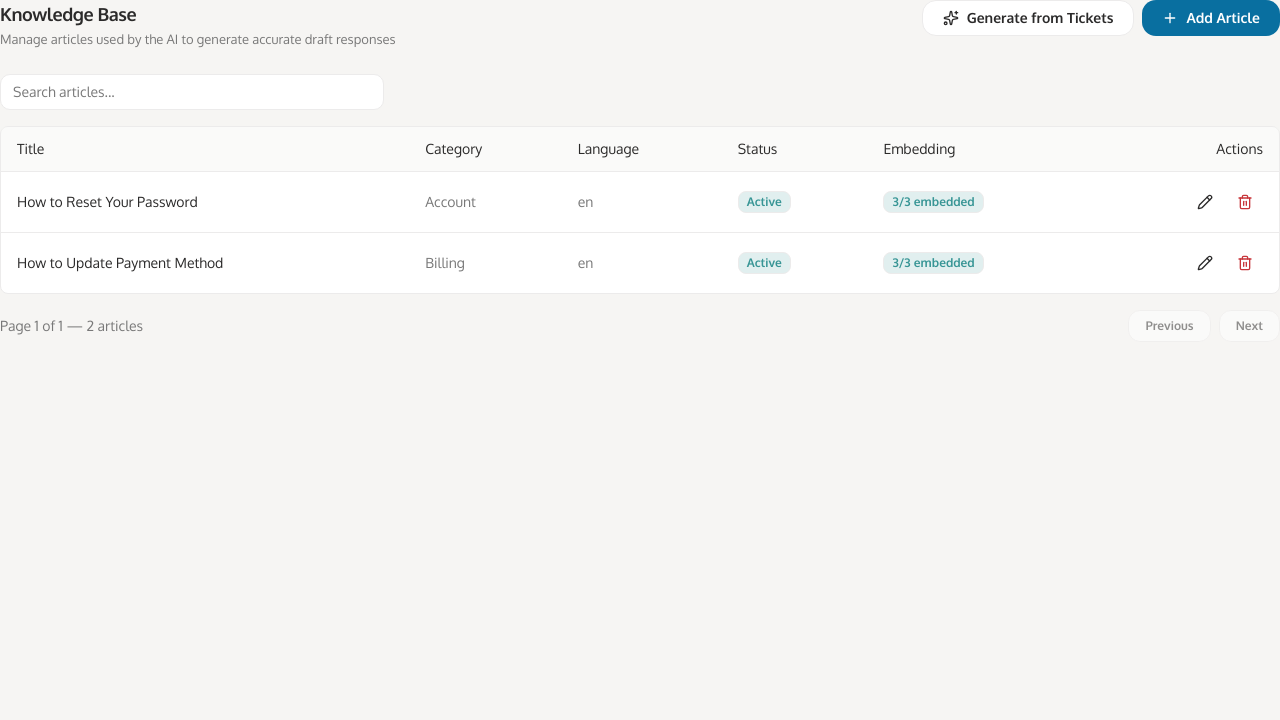
Test: Knowledge Base › opens create modal when Add Article is clicked
Click the button "Add Article".
click(1211, 18)  # box [1142,0,1279,36]
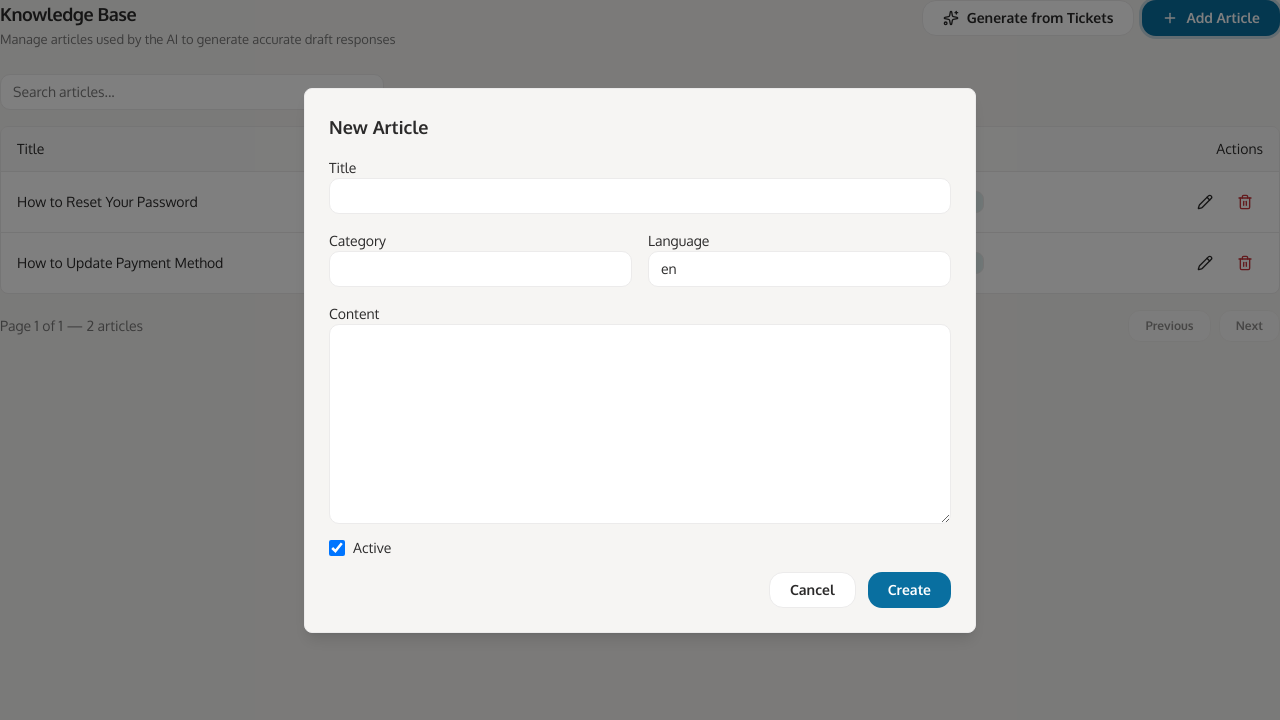
Expected: the text box labelled "Content" is shown, [329,324,951,524]
Expected: the heading "New Article" is shown, [329,116,428,138]
Expected: the field labelled "Category" is shown, [329,250,632,286]
